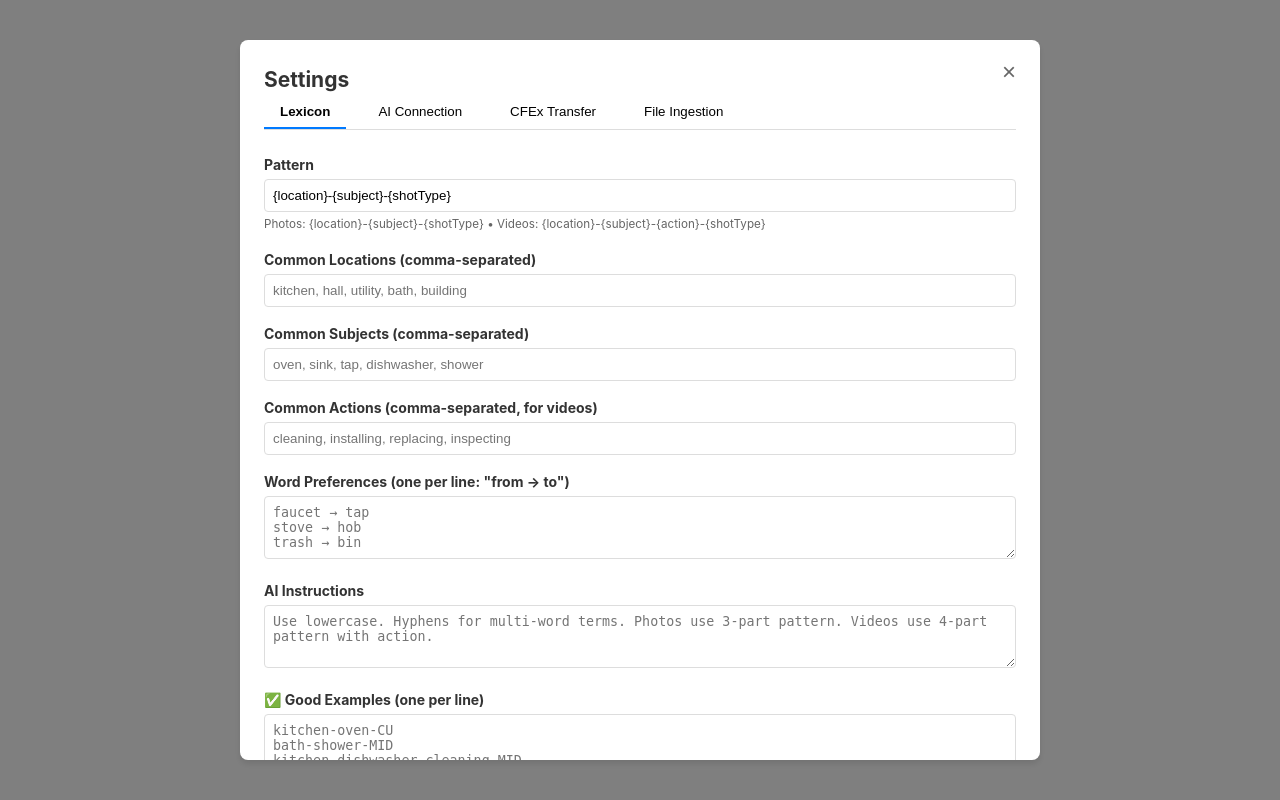
Test: SettingsModal › AI Configuration Tab › should display error message when AI config loading fails
The width and height of the screenshot is (1280, 800).
Click the button "AI Connection".
click(420, 112)  # box 362,96 -> 478,128
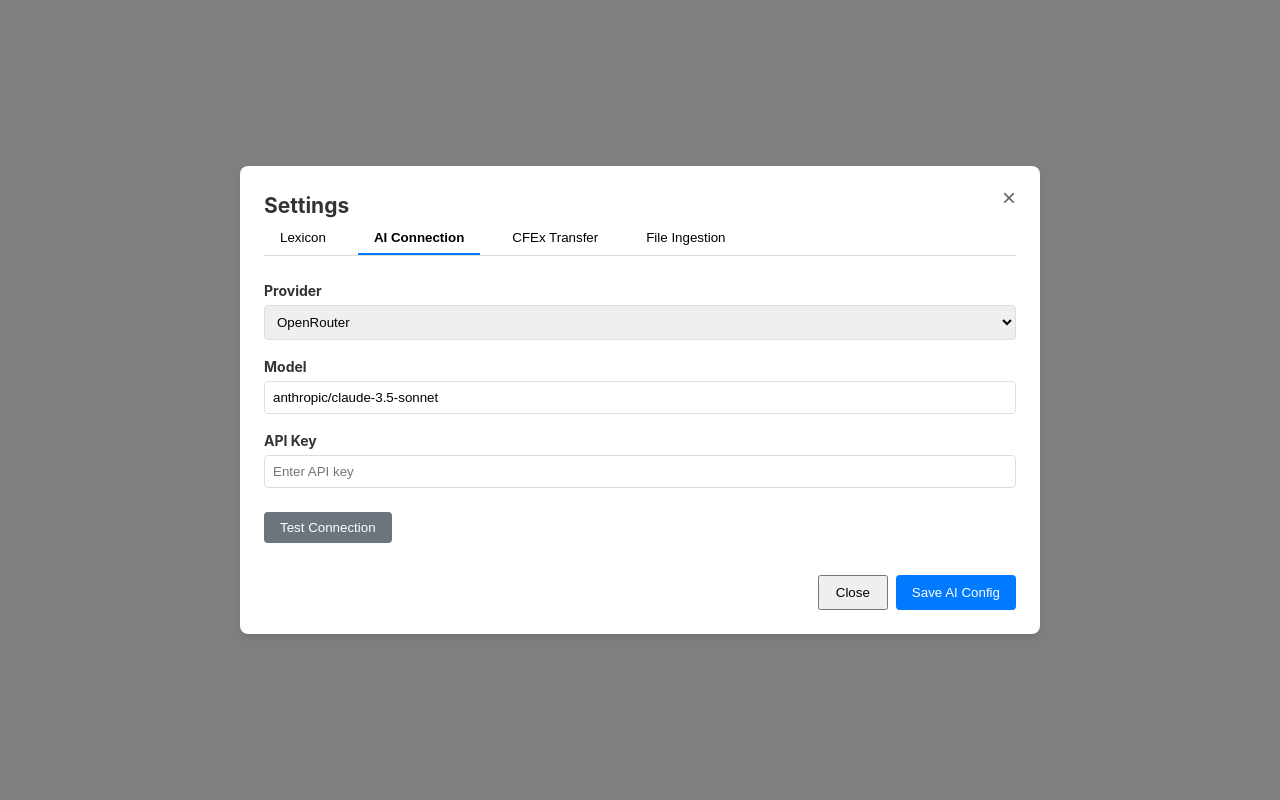
Check: the text "Model" is shown, box 264,358 -> 307,375
